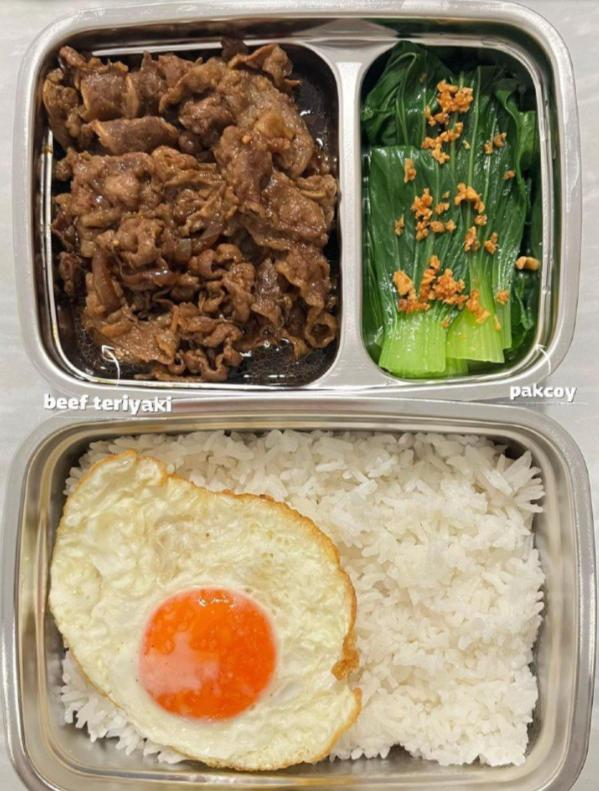buah_sayur_lainnya: (380, 82, 517, 344)
daging: (76, 70, 301, 343)
makanan_berpati: (368, 461, 516, 733)
telur: (113, 514, 307, 724)
